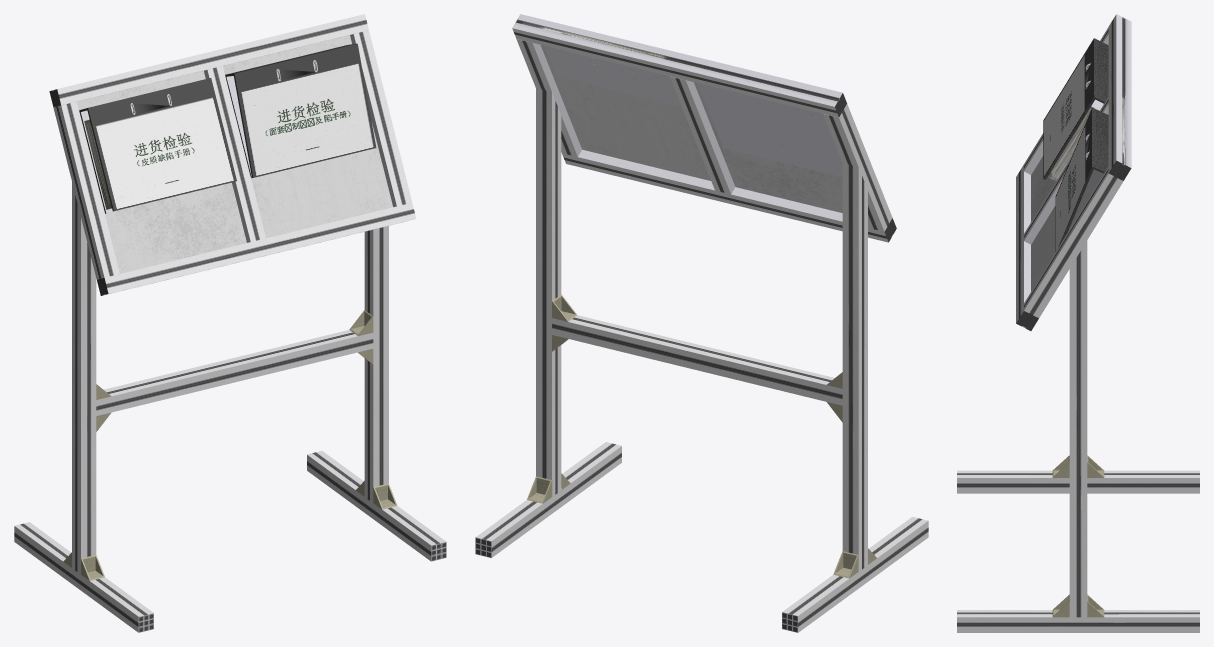
File: YF_Model_zhanshi.FBX
3 renders of one model, left to right at view 1: azimuth 30°, elevation 25°; view 2: azimuth 150°, elevation 25°; view 3: azimuth 270°, elevation 25°, orthographic. The views are drawn at different scales.
Parts seen in each view (by area): view 1: Box005; view 2: Box005; view 3: Box005.
Boxes of the visible parts, x1=… form: Box005: x1=14, y1=14, x2=446, y2=632; Box005: x1=475, y1=14, x2=928, y2=632; Box005: x1=957, y1=14, x2=1199, y2=632.
Bounding box in the file's own units: 100 × 150 × 70.
